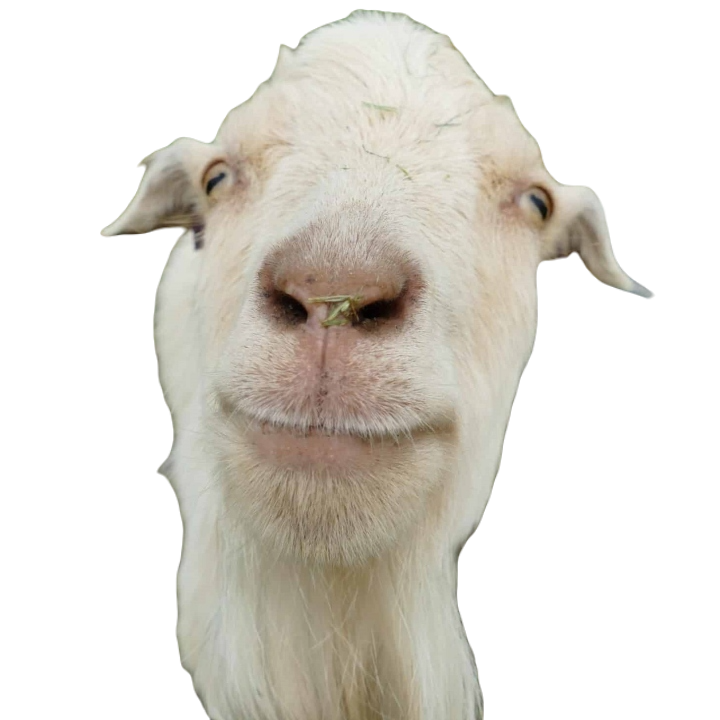Goat: (95, 7, 654, 719)
